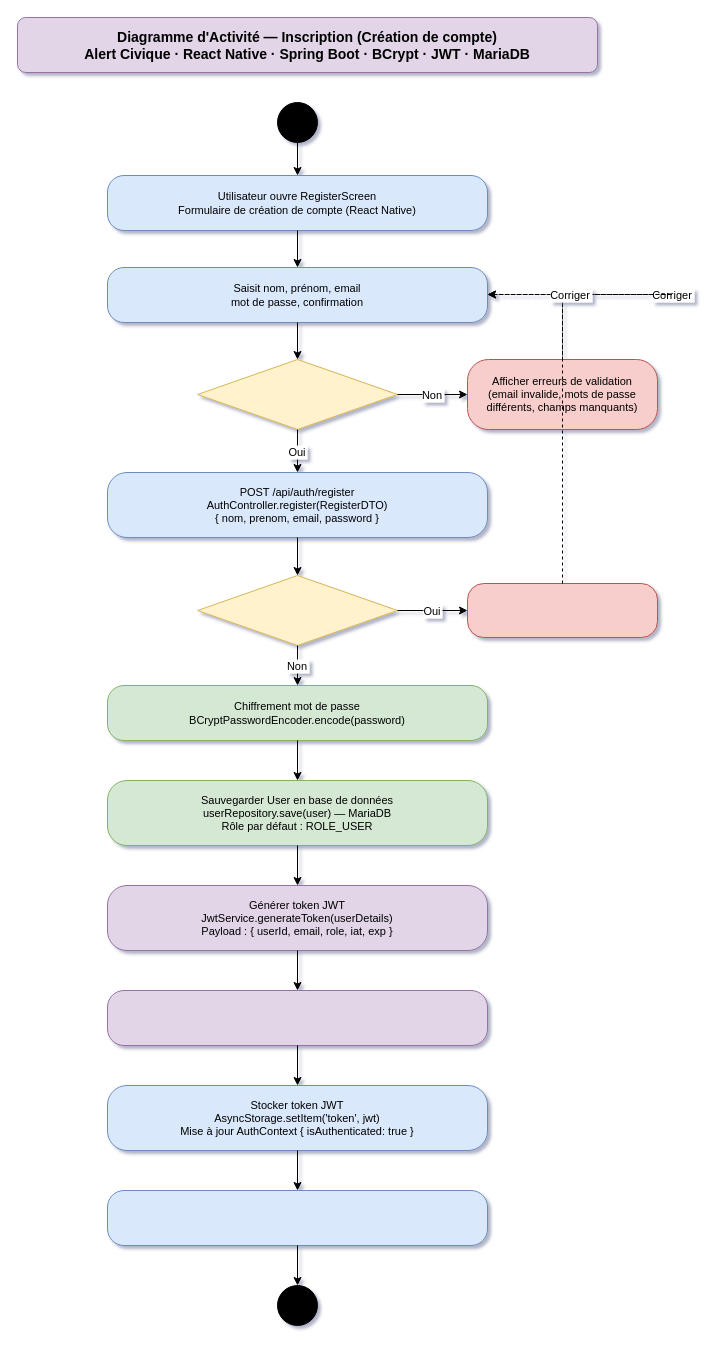
Some shapes in this 718 by 1349 pixel diagram are drawn without their labels. Each missing label, with the centre of its shape:
409 Conflict 'Email déjà existant': point 562,610
Accès à l'application HomeScreen — Tableau de bord citoyen: point 297,1218
Email déjà utilisé ?: point 297,610
Formulaire valide ?: point 297,394
HTTP 201 Created AuthResponseDTO { token, userId, email, role }: point 297,1018
